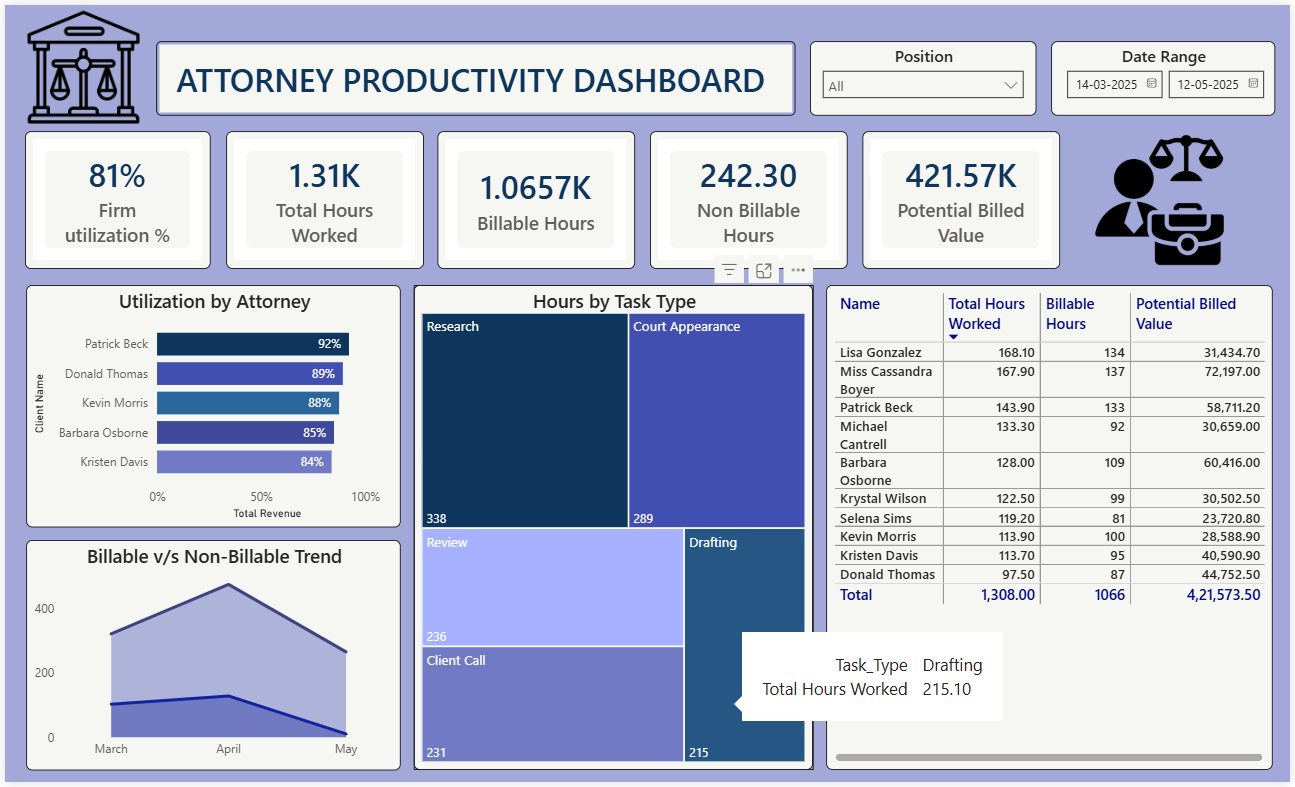

What the dashboard file says about the page in this screenshot:
{"tool":"powerbi","page":{"name":"Attorney Productivity","canvas":[1285,777],"ordinal":3},"visuals":[{"type":"shape","box":[150.9,36,639.5,74.1],"z":0},{"type":"textbox","box":[166,47,610.6,53.5],"z":1000},{"type":"cardVisual","title":"Total Payment","fields":{"Data":["_Key Measures.Firm utilization %"]},"box":[20.6,126.9,185.2,137.2],"z":2000},{"type":"cardVisual","title":"Total Payment","fields":{"Data":["_Key Measures.Total Hours Worked"]},"box":[220.7,126.9,197.6,137.2],"z":3000},{"type":"cardVisual","fields":{"Data":["_Key Measures.Billable Hours"]},"box":[433.1,126.9,197.6,137.2],"z":4000},{"type":"cardVisual","fields":{"Data":["_Key Measures.Potential Billed Value"]},"box":[857.9,126.9,197.6,137.2],"z":5000},{"type":"cardVisual","fields":{"Data":["_Key Measures.Non Billable Hours"]},"box":[645.5,126.9,197.6,137.2],"z":6000},{"type":"slicer","title":"Date Range","fields":{"Values":["attorney_logs.Date"]},"box":[1045.6,35.7,223.7,74.1],"z":7000},{"type":"slicer","title":"Position","fields":{"Values":["attorney_data.Position"]},"box":[804.8,35.7,226.4,74.1],"z":8000},{"type":"treemap","title":"Hours by Task Type","fields":{"Group":["attorney_logs.Task_Type"],"Values":["_Key Measures.Total Hours Worked"]},"box":[409.1,279.6,399.5,484.9],"z":9000},{"type":"barChart","title":"Utilization by Attorney","fields":{"Category":["attorney_data.Name"],"Y":["_Key Measures.Firm utilization %"]},"box":[20.7,279.6,374.7,242.5],"z":10000},{"type":"areaChart","title":"Billable v/s Non-Billable Trend","fields":{"Category":["attorney_logs.Date.Variation.Date Hierarchy.Month"],"Y":["_Key Measures.Billable Hours","_Key Measures.Non Billable Hours"]},"box":[20.7,534.5,374.7,230.1],"z":11000},{"type":"tableEx","fields":{"Values":["attorney_data.Name","_Key Measures.Total Hours Worked","_Key Measures.Billable Hours","_Key Measures.Potential Billed Value"]},"box":[821,279.6,446.3,484.9],"z":12000},{"type":"image","box":[1042.8,126.7,224.5,137.8],"z":13000},{"type":"image","box":[4.1,4.1,149.6,116.6],"z":14000}]}

Visuals, with their boxes in screenshot pixels (x1, y1, x2, y2), scaled from the page's 1285x777 canvas onto the 1295x787 screenshot:
shape: x1=152, y1=36, x2=797, y2=112
textbox: x1=167, y1=48, x2=783, y2=102
"Total Payment" cardVisual: x1=21, y1=129, x2=207, y2=267
"Total Payment" cardVisual: x1=222, y1=129, x2=422, y2=267
cardVisual - _Key Measures.Billable Hours: x1=436, y1=129, x2=636, y2=267
cardVisual - _Key Measures.Potential Billed Value: x1=865, y1=129, x2=1064, y2=267
cardVisual - _Key Measures.Non Billable Hours: x1=651, y1=129, x2=850, y2=267
"Date Range" slicer: x1=1054, y1=36, x2=1279, y2=111
"Position" slicer: x1=811, y1=36, x2=1039, y2=111
"Hours by Task Type" treemap: x1=412, y1=283, x2=815, y2=774
"Utilization by Attorney" barChart: x1=21, y1=283, x2=398, y2=529
"Billable v/s Non-Billable Trend" areaChart: x1=21, y1=541, x2=398, y2=774
tableEx - attorney_data.Name x _Key Measures.Total Hours Worked: x1=827, y1=283, x2=1277, y2=774
image: x1=1051, y1=128, x2=1277, y2=268
image: x1=4, y1=4, x2=155, y2=122
